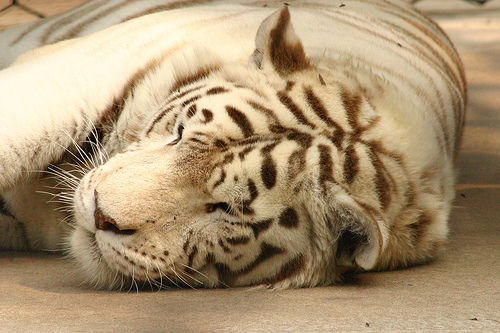Tigre: (19, 8, 462, 280)
